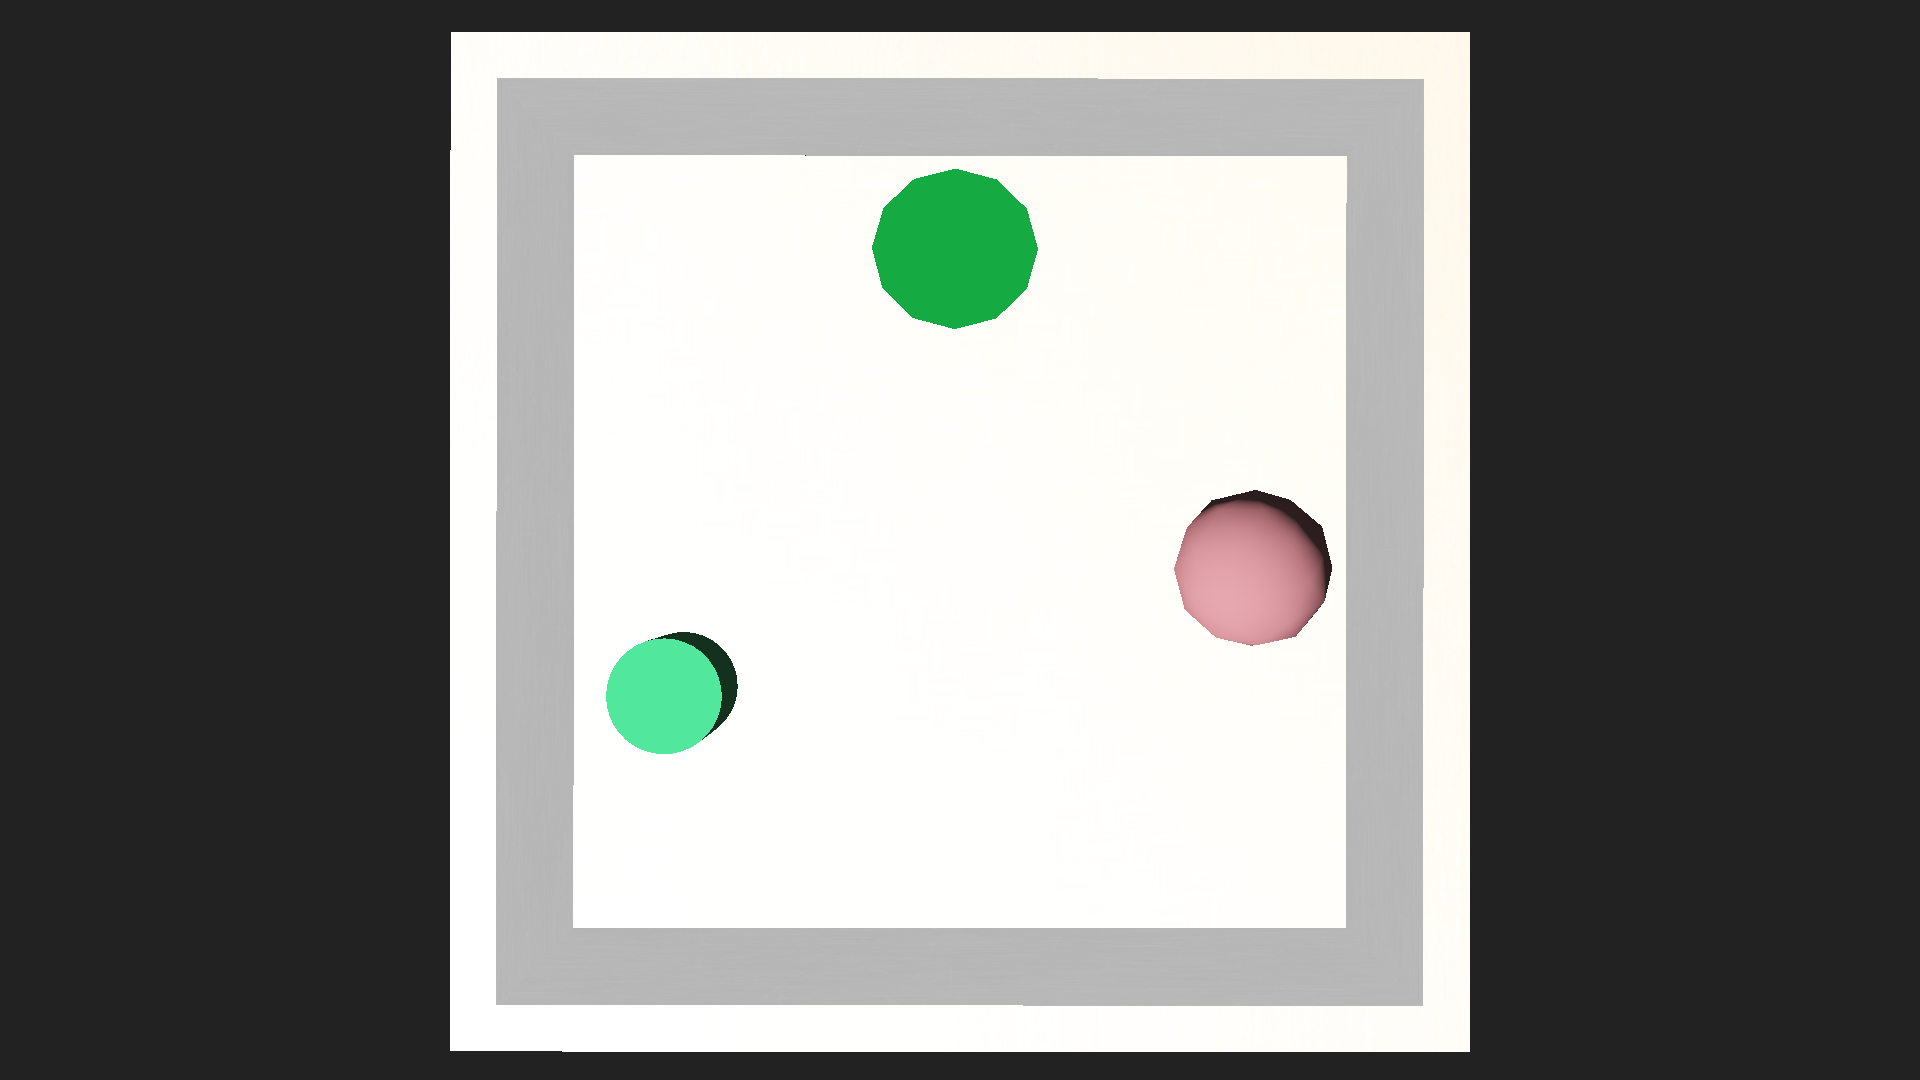cone: (605, 632, 737, 753)
cylinder: (878, 171, 1030, 363)
sphere: (1172, 488, 1332, 647)
